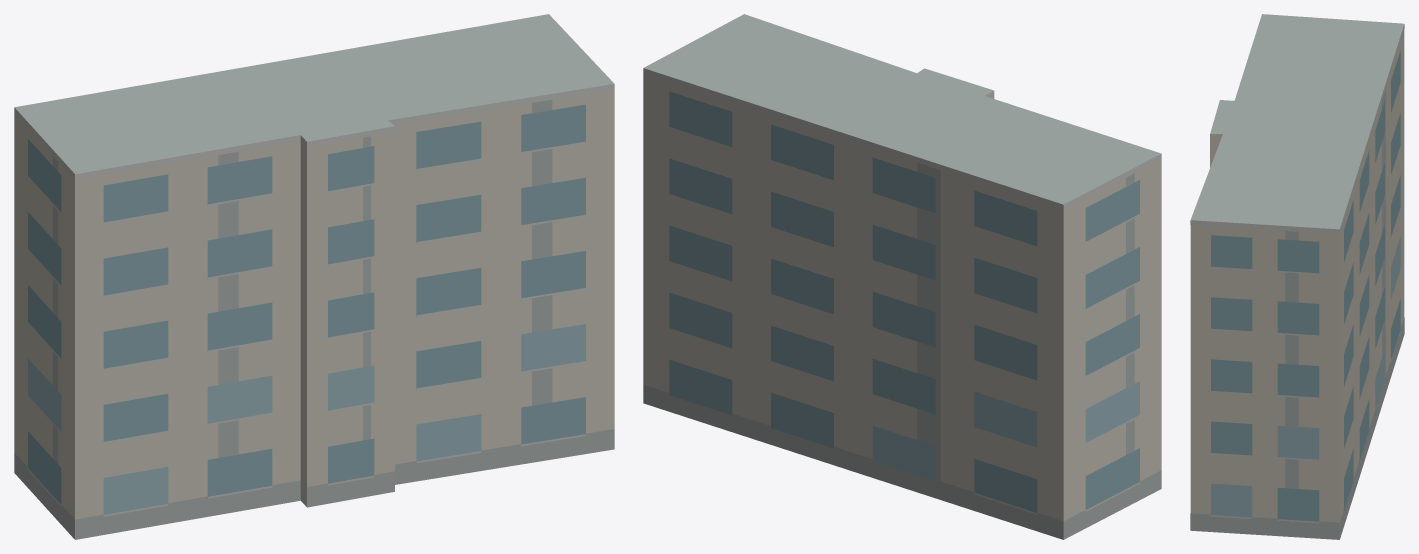
The model's file is survey-upis-32732215.glb.
3 renders of one model, left to right at view 1: azimuth 30°, elevation 25°; view 2: azimuth 150°, elevation 25°; view 3: azimuth 270°, elevation 25°, orthographic. The views are drawn at different scales.
Parts seen in each view (by area): view 1: survey-upis-32732215.tmp; view 2: survey-upis-32732215.tmp; view 3: survey-upis-32732215.tmp.
Boxes of the visible parts, <box> form: survey-upis-32732215.tmp: <box>14,14,614,539</box>; survey-upis-32732215.tmp: <box>643,14,1161,539</box>; survey-upis-32732215.tmp: <box>1190,14,1404,539</box>.
Bounding box in the file's own units: 22.69 × 15.25 × 9.53.
